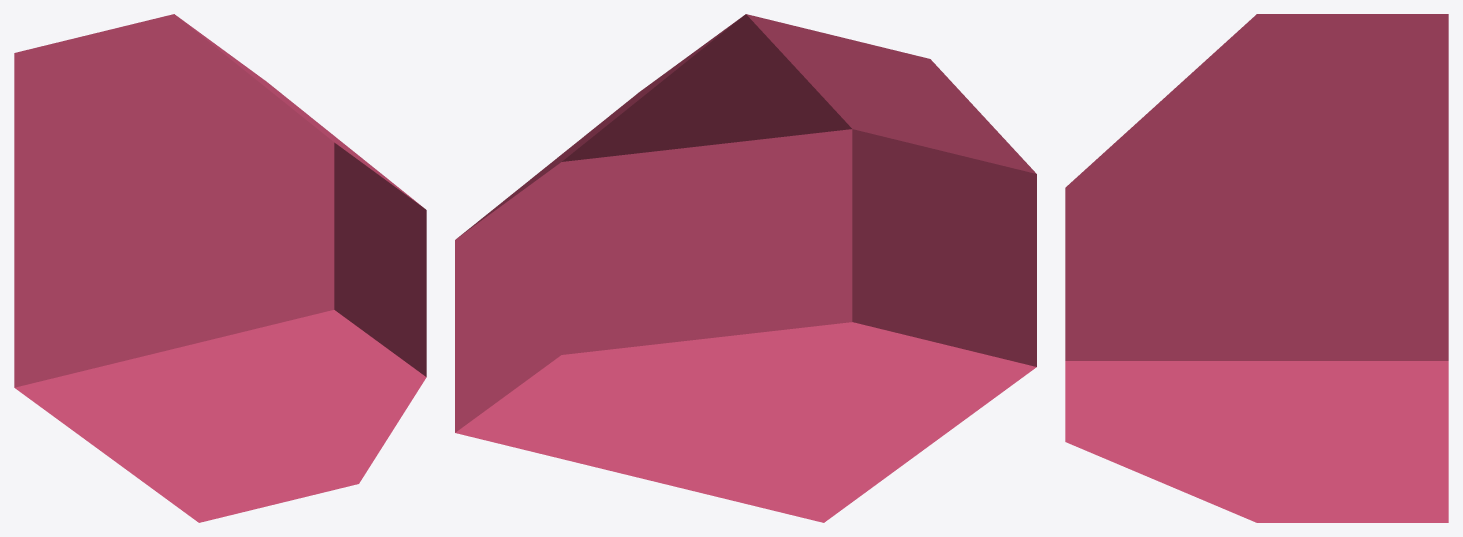
Rendered from r5c6_border_pink.gltf.
3 views of the same model, side by side, from view 1: azimuth 30°, elevation 25°; view 2: azimuth 150°, elevation 25°; view 3: azimuth 270°, elevation 25° (orthographic). The views are drawn at different scales.
Visible parts, largest first — view 1: r5c6_border_pink; view 2: r5c6_border_pink; view 3: r5c6_border_pink.
Boxes of the visible parts, <box> form: r5c6_border_pink: <box>14,14,426,522</box>; r5c6_border_pink: <box>455,14,1036,522</box>; r5c6_border_pink: <box>1065,14,1448,522</box>.
Size of the model in its own units: 2.1 by 2.1 by 2.1.
Materials: 1 (1 with a texture image).
